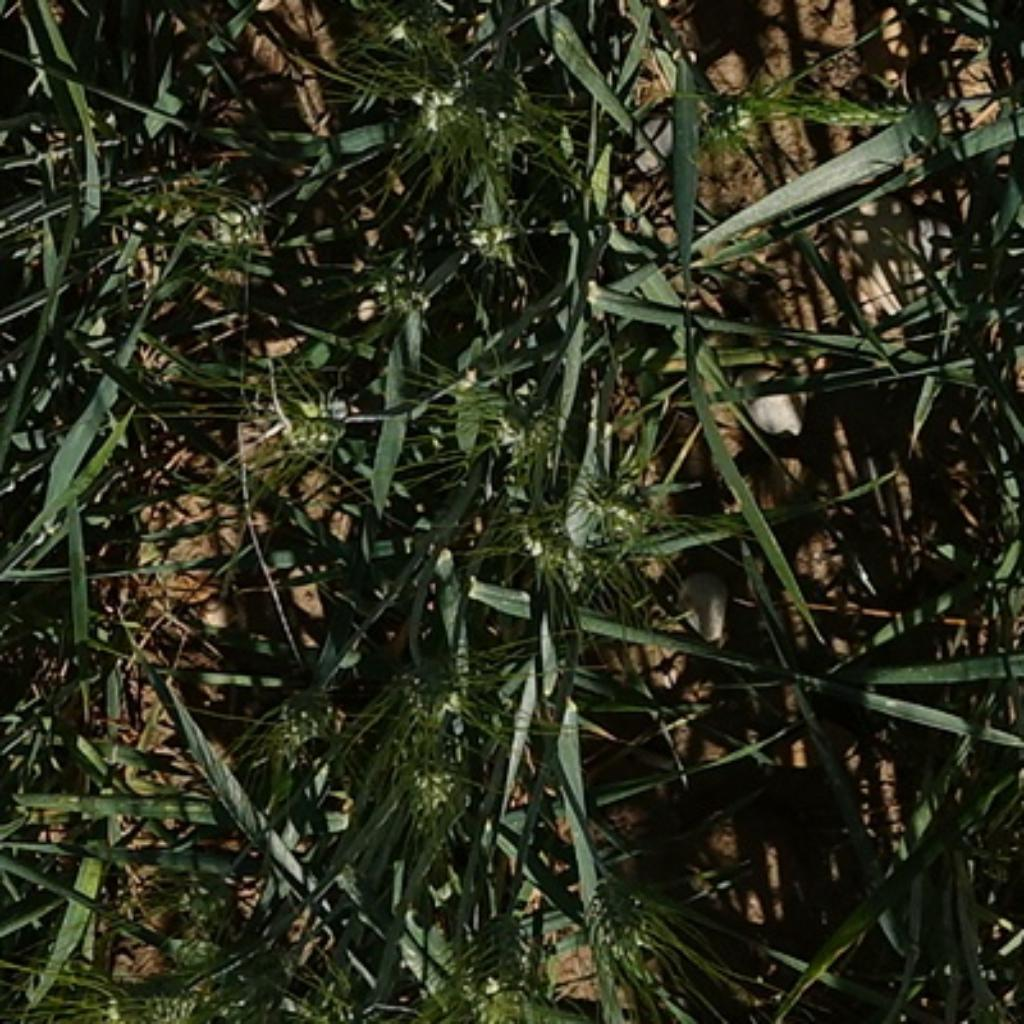0-0: (371, 683, 481, 821), (454, 900, 576, 1024), (192, 166, 304, 289), (227, 371, 353, 476), (378, 59, 497, 167), (560, 458, 678, 555), (587, 860, 676, 981), (488, 519, 591, 616), (772, 82, 920, 149), (448, 345, 535, 453), (384, 632, 486, 721), (350, 0, 458, 79), (139, 903, 254, 977), (253, 665, 345, 757), (678, 69, 778, 150), (353, 232, 437, 322), (458, 181, 535, 261), (123, 985, 222, 1024)
